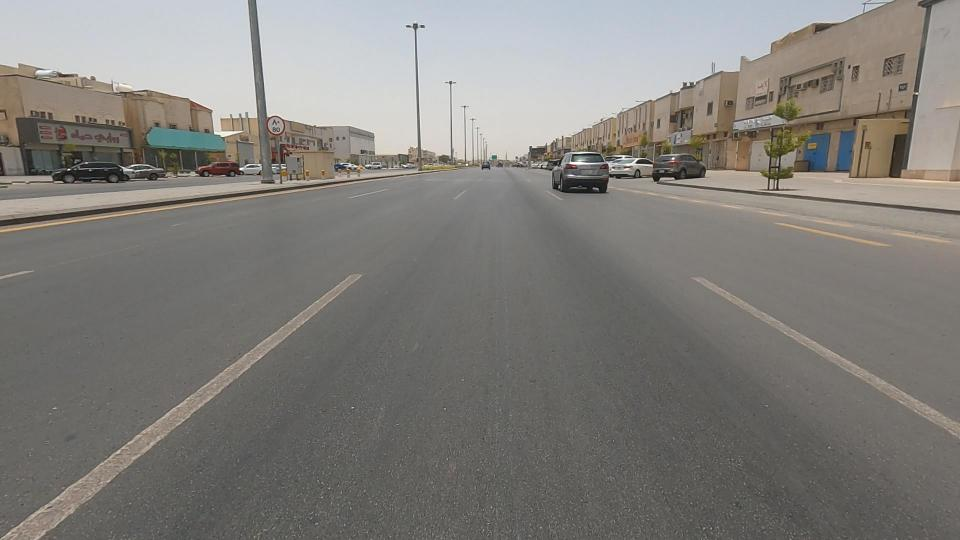BAD_BILLBOARD: (682, 103, 829, 146)
